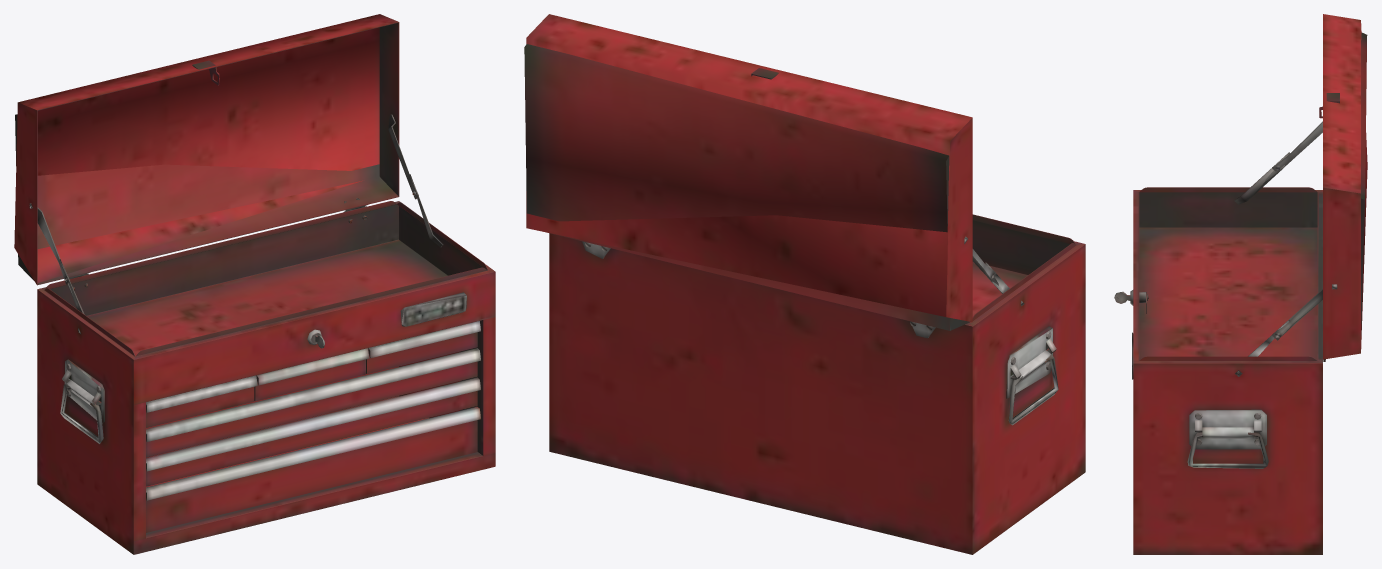
Rendered from toolChest_lo.glb.
3 views of the same model, side by side, from view 1: azimuth 30°, elevation 25°; view 2: azimuth 150°, elevation 25°; view 3: azimuth 270°, elevation 25° (orthographic). The views are drawn at different scales.
Parts seen in each view (by area): view 1: metal_tool_chest_chest, metal_tool_chest_lid, metal_tool_chest_hinge_lid, metal_tool_chest_handle_left; view 2: metal_tool_chest_chest, metal_tool_chest_lid, metal_tool_chest_handle_left; view 3: metal_tool_chest_chest, metal_tool_chest_lid, metal_tool_chest_hinge_lid, metal_tool_chest_handle_right, metal_tool_chest_hinge_chest.
Boxes of the visible parts, x1,y1,x2,y2 form: metal_tool_chest_chest: [37, 201, 495, 554]; metal_tool_chest_lid: [14, 14, 399, 285]; metal_tool_chest_hinge_lid: [29, 114, 418, 284]; metal_tool_chest_handle_left: [60, 383, 103, 443]; metal_tool_chest_chest: [549, 214, 1085, 554]; metal_tool_chest_lid: [524, 14, 972, 330]; metal_tool_chest_handle_left: [1008, 354, 1058, 425]; metal_tool_chest_chest: [1132, 187, 1325, 554]; metal_tool_chest_lid: [1319, 14, 1367, 359]; metal_tool_chest_hinge_lid: [1272, 121, 1337, 340]; metal_tool_chest_handle_right: [1187, 432, 1268, 468]; metal_tool_chest_hinge_chest: [1234, 152, 1290, 376].
Bounding box in the file's own units: 0.6841 × 0.6519 × 0.4072.
Materials: 1 (1 with a texture image).
